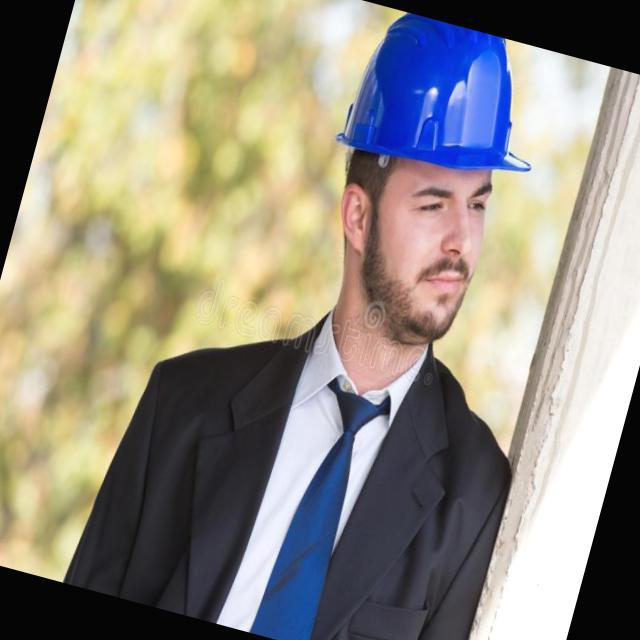helmet: (326, 1, 566, 206)
no-vest: (93, 276, 548, 640)
